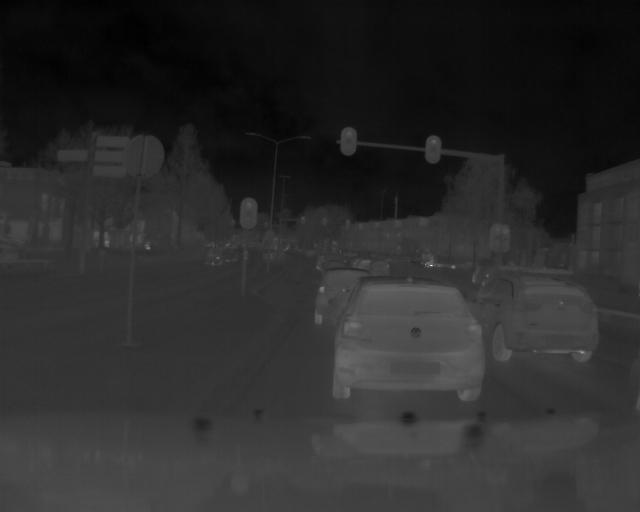car: (338, 276, 495, 405), (490, 280, 612, 363), (315, 269, 346, 315), (421, 250, 466, 272)
